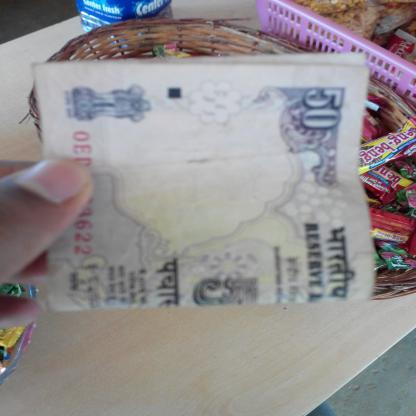Old50Front: (32, 52, 375, 311)
